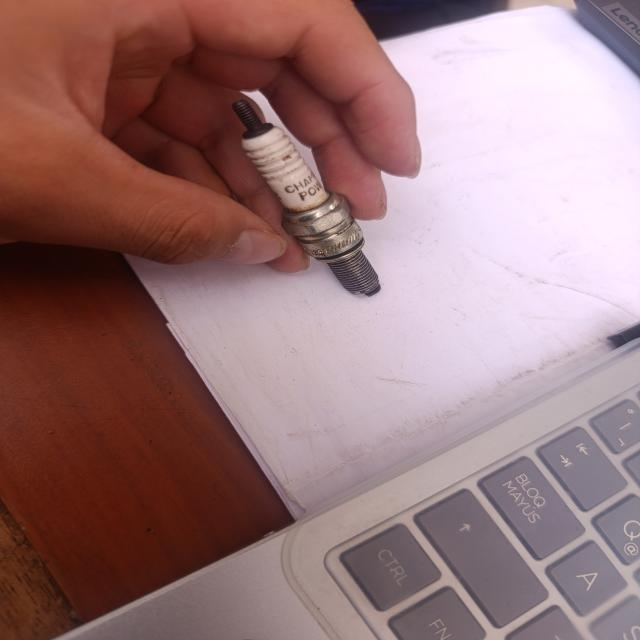bujia: (232, 100, 380, 296)
